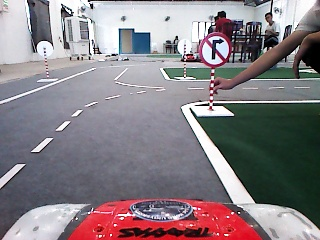ban_right: (198, 31, 232, 68)
